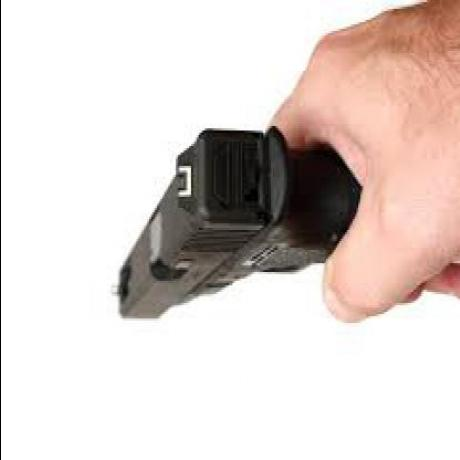1: (263, 3, 460, 323)
weapon: (95, 113, 383, 346)
